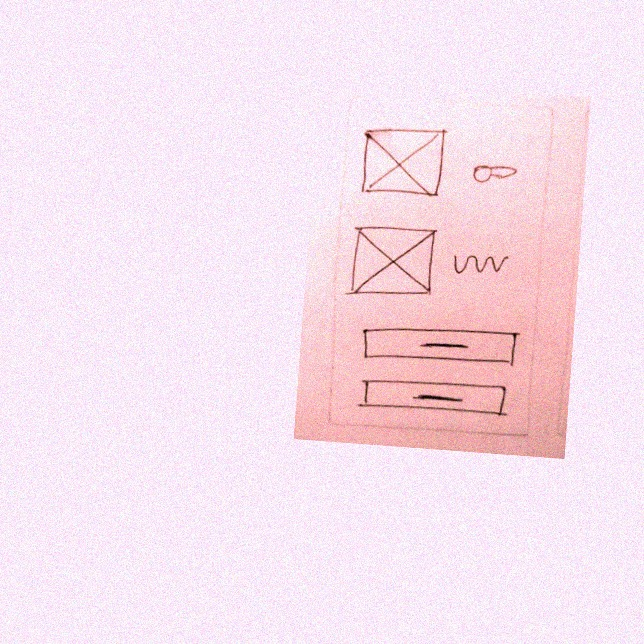button: (354, 319, 522, 374), (348, 372, 512, 422)
image: (356, 122, 451, 209), (344, 220, 440, 306)
switch: (466, 158, 523, 187)
text: (446, 245, 513, 281)
